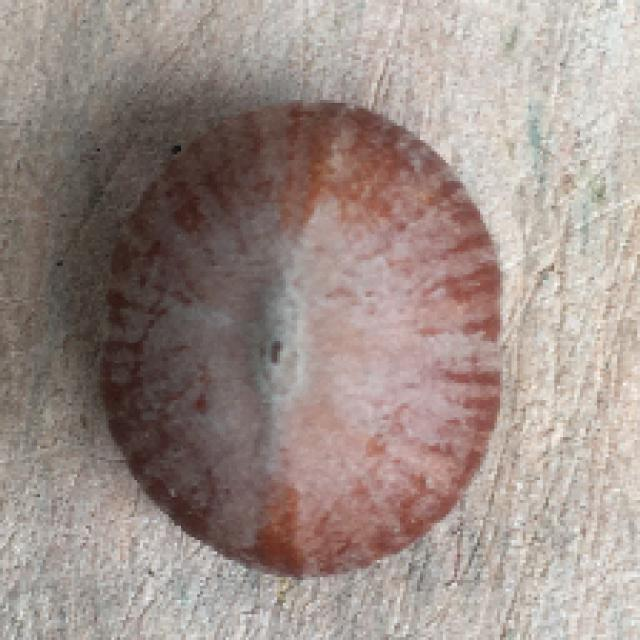qualityHazelnut: (93, 100, 506, 586)
